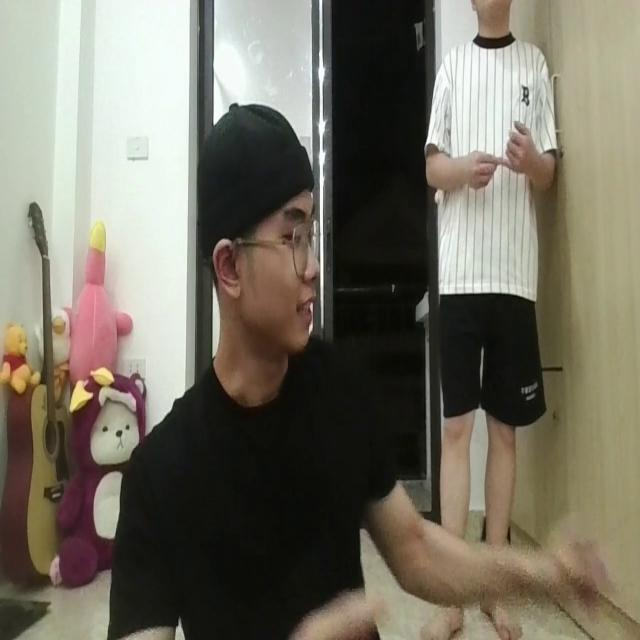extra_person: (428, 0, 562, 621)
student: (113, 98, 426, 640)
